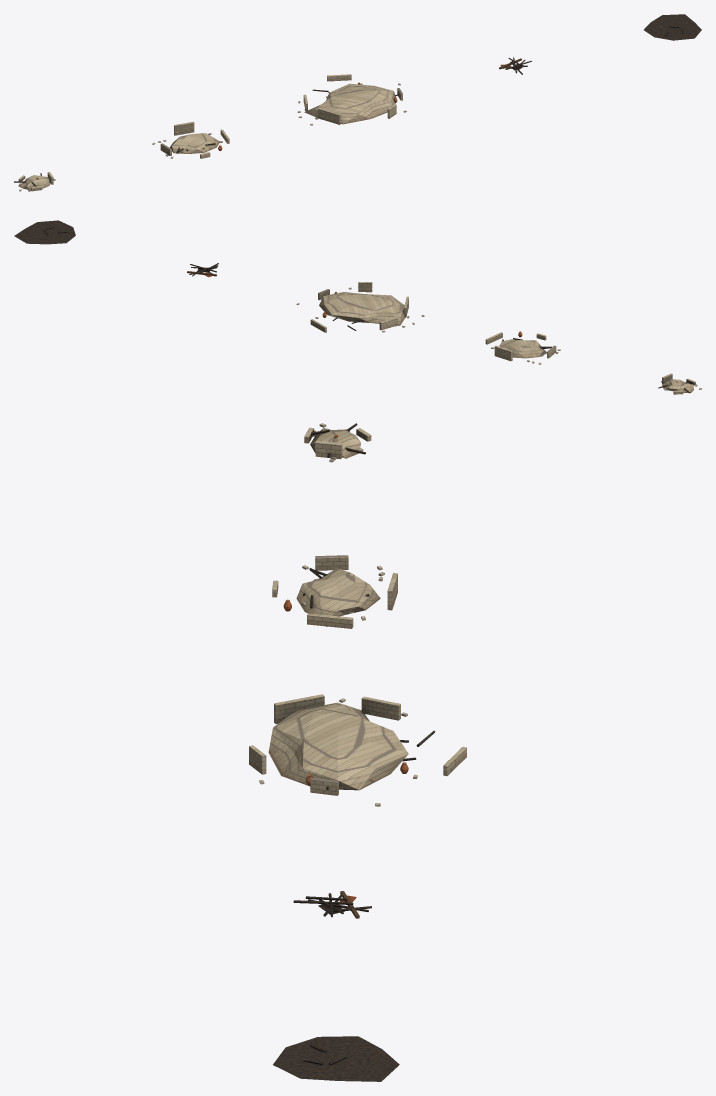
The model's file is ruins-classical.glb.
3 renders of one model, top to bottom at view 1: azimuth 30°, elevation 25°; view 2: azimuth 150°, elevation 25°; view 3: azimuth 270°, elevation 25°, orthographic. The views are drawn at different scales.
Parts seen in each view (by area): view 1: LOD0.002, LOD0.001, LOD0.004, LOD0; view 2: LOD0.002, LOD0.001, LOD0.004, LOD0; view 3: LOD0.002, LOD0.001, LOD0.004, LOD0.
Boxes of the visible parts, x1,y1,x2,y2 form: LOD0.002: (297, 74, 406, 125); LOD0.001: (152, 121, 229, 158); LOD0.004: (644, 14, 701, 40); LOD0: (14, 172, 55, 191); LOD0.002: (296, 282, 424, 332); LOD0.001: (485, 331, 560, 364); LOD0.004: (14, 220, 75, 244); LOD0: (658, 373, 701, 394); LOD0.002: (249, 694, 466, 806); LOD0.001: (272, 555, 397, 628); LOD0.004: (273, 1036, 399, 1081); LOD0: (304, 423, 371, 462).
Size of what is drawn, in the model's own units: 12.79 by 0.1913 by 1.79.
Materials: 1 (1 with a texture image).
